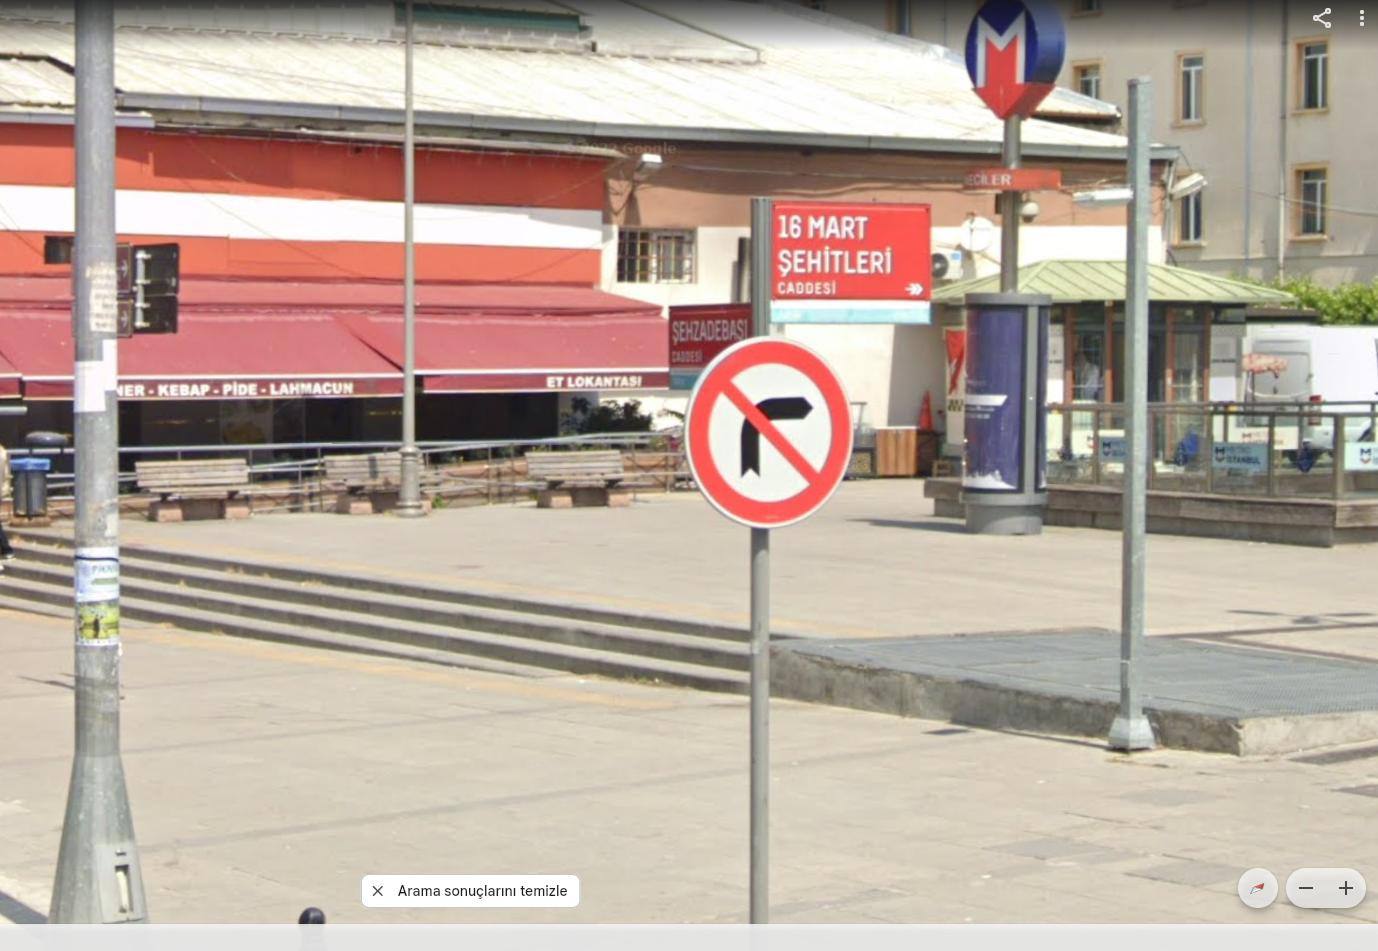rightturnsareforbidden: (681, 339, 859, 527)
